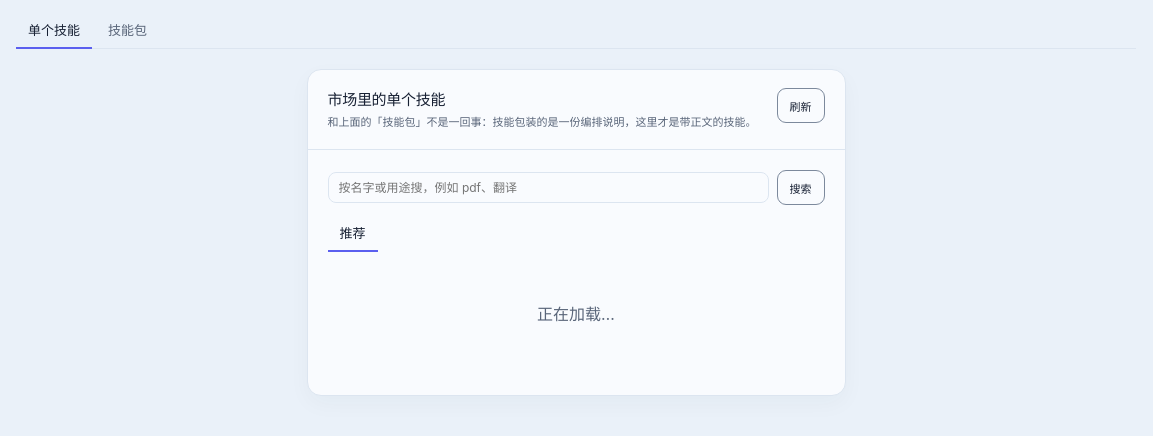
Test case: 技能市场 · 技能包 › 显示实际连的是哪个上游 —— 它不是内置列表
Click the tab with test id "hub-tab-pack" at {"x": 128, "y": 30}, box [96,12,159,49]
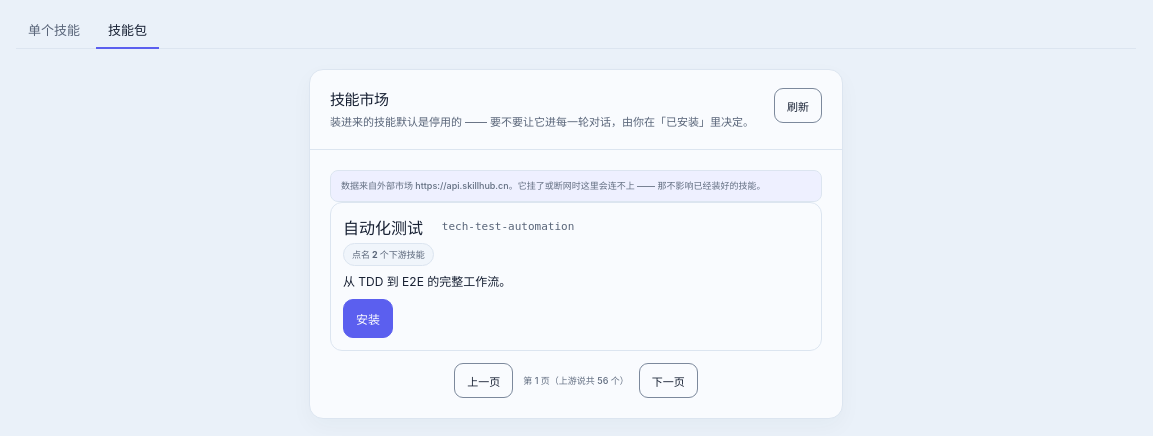
Result: the text "自动化测试" is shown at [343,215,434,239]
Result: the text "那不影响已经装好的技能" is shown at [341,180,766,191]
